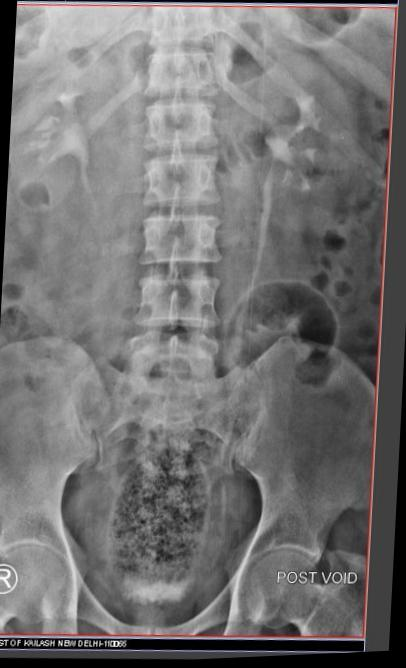bladder: (80, 534, 237, 637)
left kidney: (236, 42, 372, 232)
right kidney: (5, 44, 132, 232)
vertebrae: (138, 103, 224, 158)
